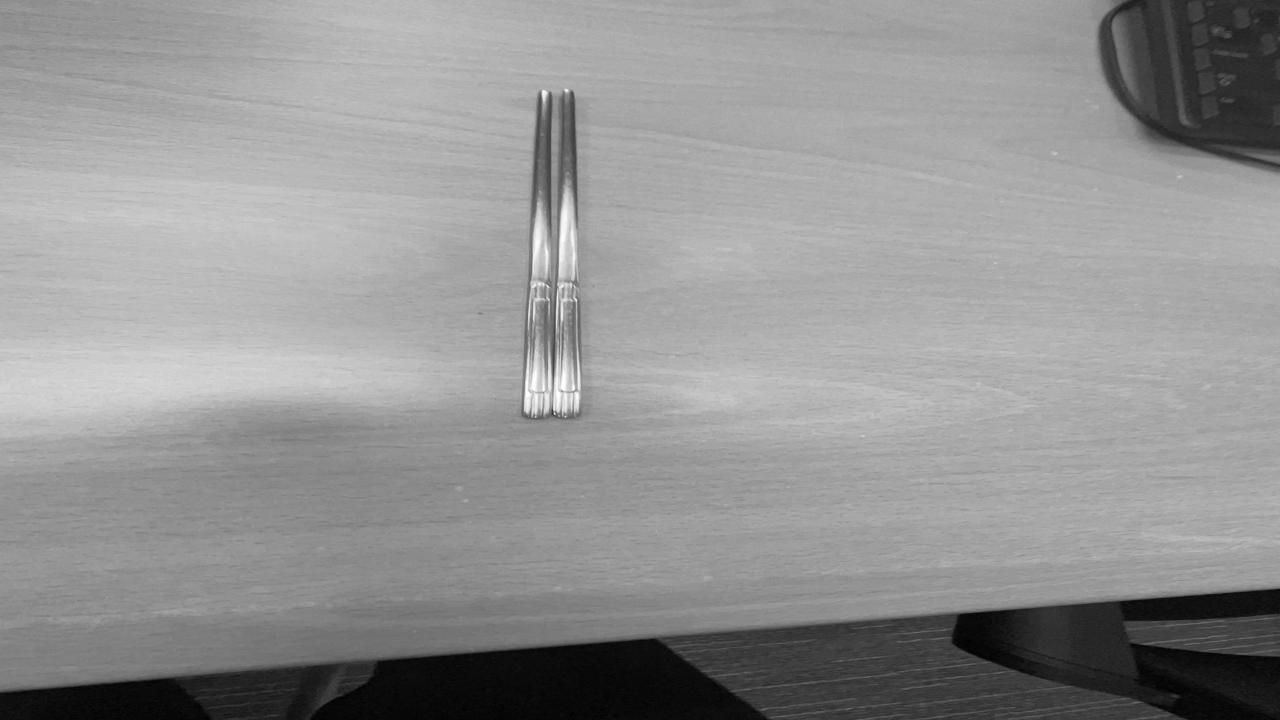chopstick: (518, 88, 586, 428)
